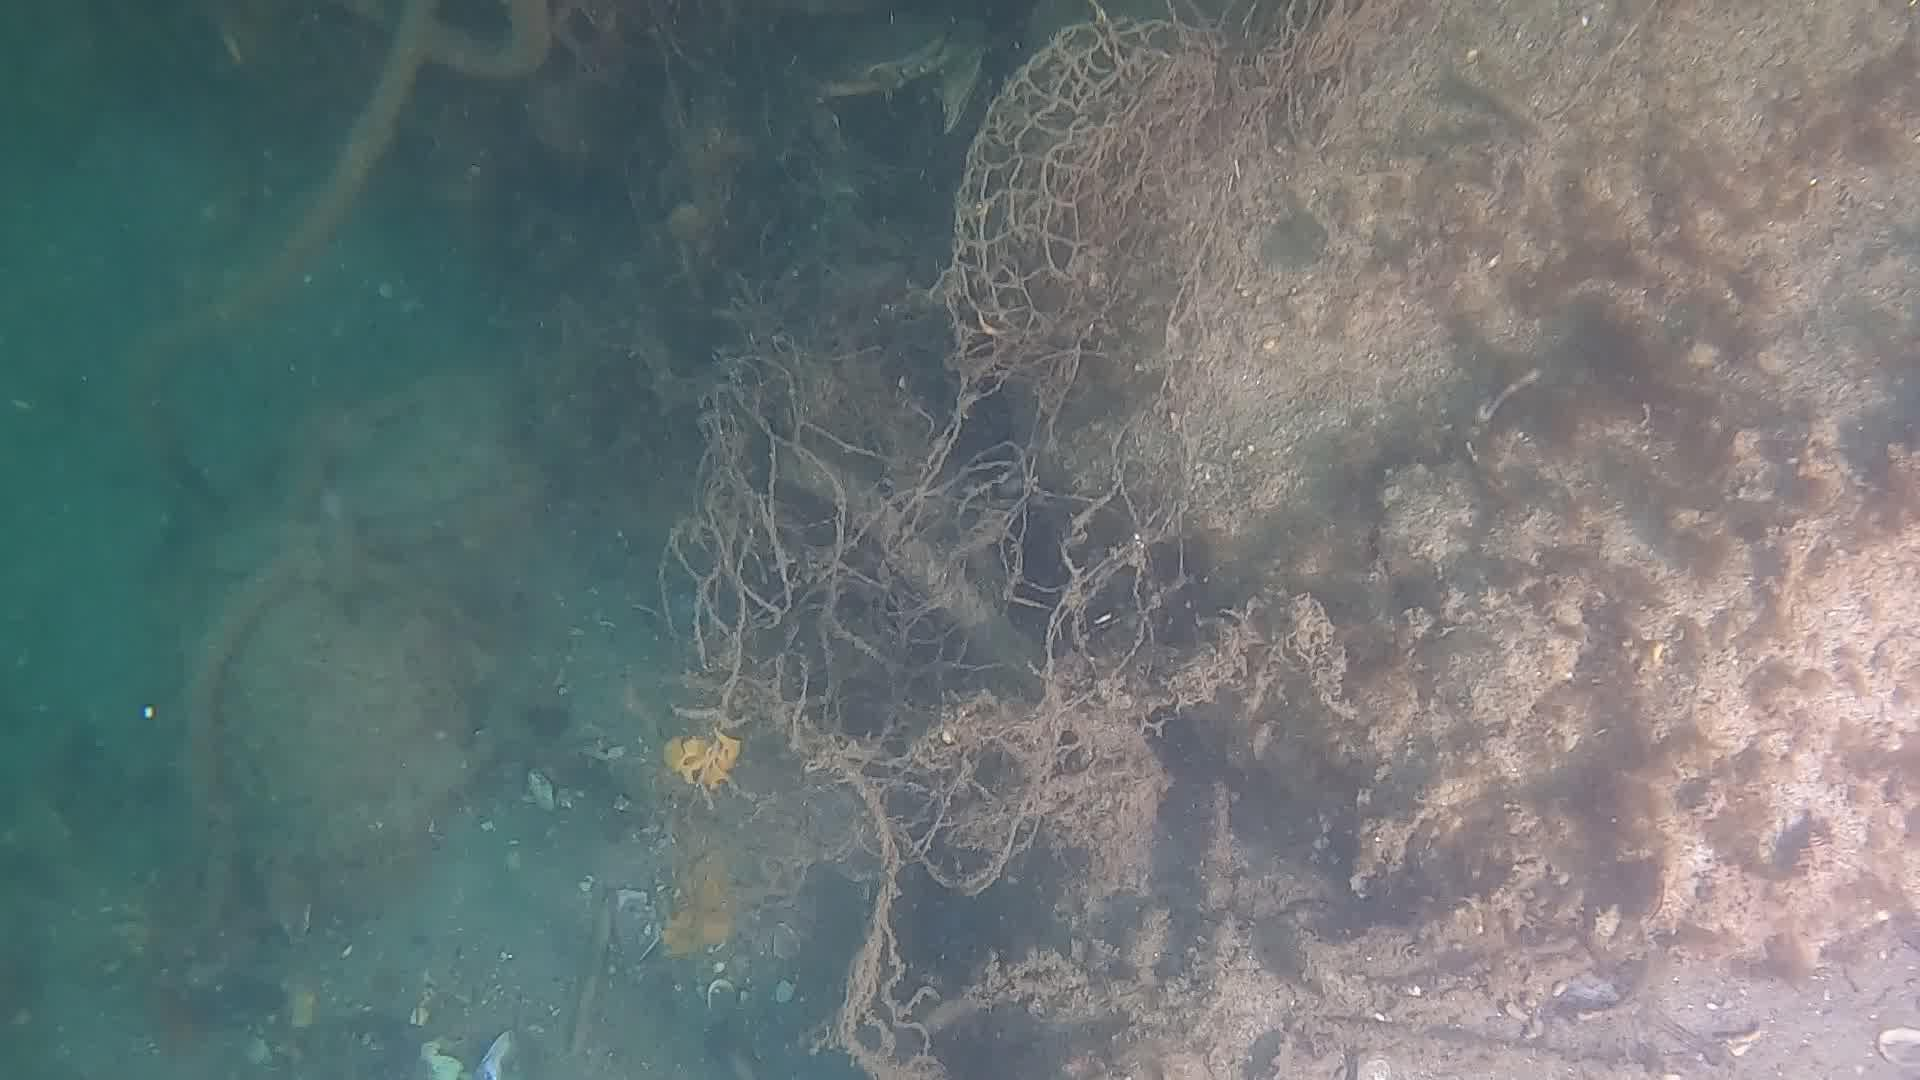fish net: (953, 21, 1160, 338)
